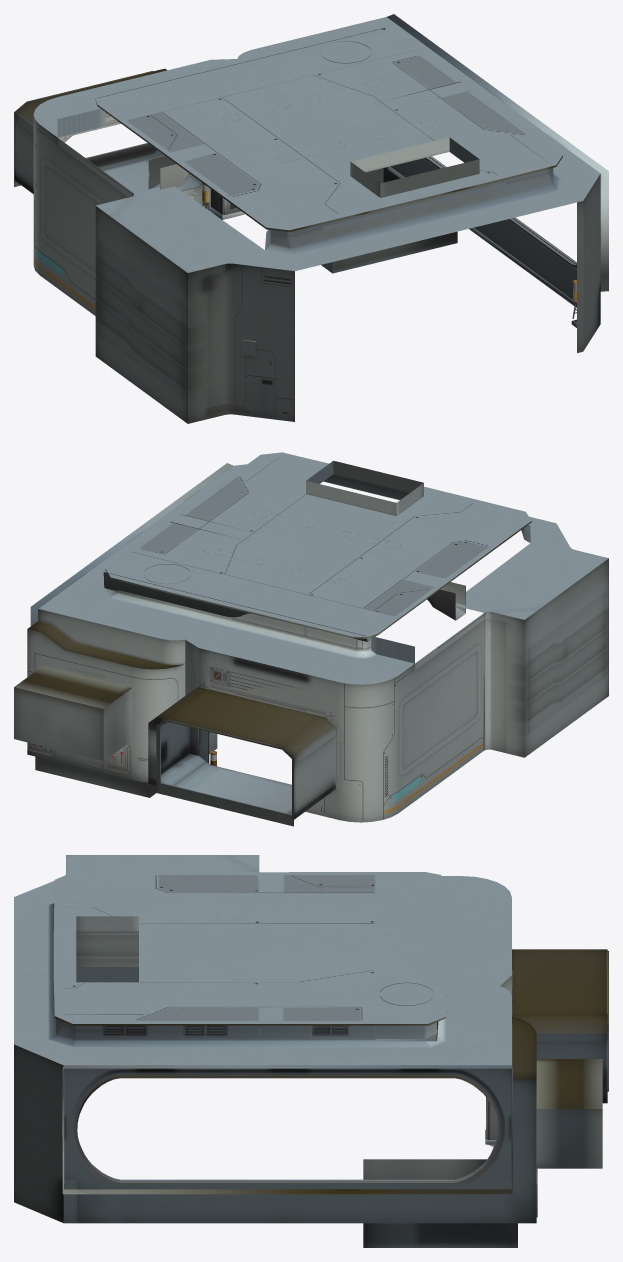
File: Pico_01_R.fbx
3 renders of one model, top to bottom at view 1: azimuth 30°, elevation 25°; view 2: azimuth 150°, elevation 25°; view 3: azimuth 270°, elevation 25°, orthographic. The views are drawn at different scales.
Visible parts, largest first — view 1: Pico_01_QiangTi, Pico_01_Chuang, Pico_01_DingLiang_01, Pico_01_DingLiang_02; view 2: Pico_01_QiangTi, Pico_01_DingLiang_02, Pico_01_Chuang, Pico_01_DingLiang_01; view 3: Pico_01_QiangTi, Pico_01_Chuang.
Boxes of the visible parts, left/top/right/bottom form: Pico_01_QiangTi: left=14, top=17, right=600, bottom=423; Pico_01_Chuang: left=387, top=14, right=608, bottom=291; Pico_01_DingLiang_01: left=148, top=81, right=471, bottom=189; Pico_01_DingLiang_02: left=97, top=28, right=414, bottom=120; Pico_01_QiangTi: left=14, top=452, right=608, bottom=826; Pico_01_DingLiang_02: left=103, top=551, right=393, bottom=641; Pico_01_Chuang: left=30, top=463, right=233, bottom=625; Pico_01_DingLiang_01: left=170, top=514, right=465, bottom=620; Pico_01_QiangTi: left=14, top=855, right=608, bottom=1247; Pico_01_Chuang: left=62, top=1065, right=512, bottom=1194.
Size of the model in its own units: 1019 by 493 by 1195.
Materials: 2 (1 with a texture image).
